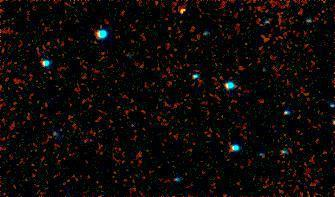star: (164, 3, 194, 33)
